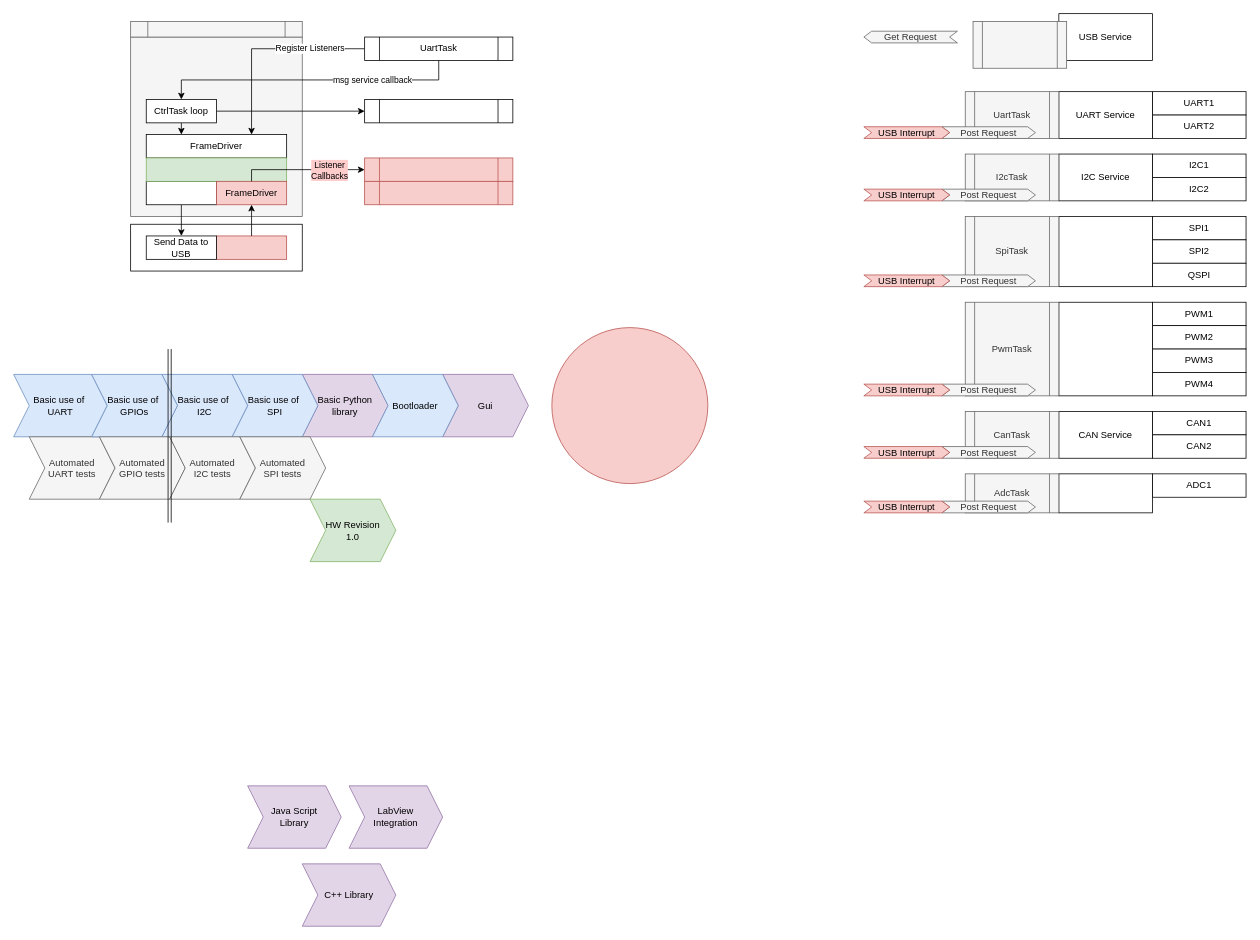
Image size: 1260x940. Some labels were removed from this diagram. The centre of each missing label's shape, as x and y in pixels:
"ADC Service" belongs at point (1105, 493).
"CtrlTask" belongs at point (216, 29).
"Launch End 2023" belongs at point (629, 405).
"PWM Service" belongs at point (1105, 348).
"Reveice Data from USB" belongs at point (251, 247).
"SPI Service" belongs at point (1105, 251).
"TF_Integration" belongs at point (180, 193).
"TinyFrame Lib" belongs at point (216, 169).
"UartService_postRequest" belongs at point (438, 193).
"UartTask_postRequest" belongs at point (438, 169).
"UartTask_serviceRequest" belongs at point (438, 111).
"UsbTask" belongs at point (1019, 44).
